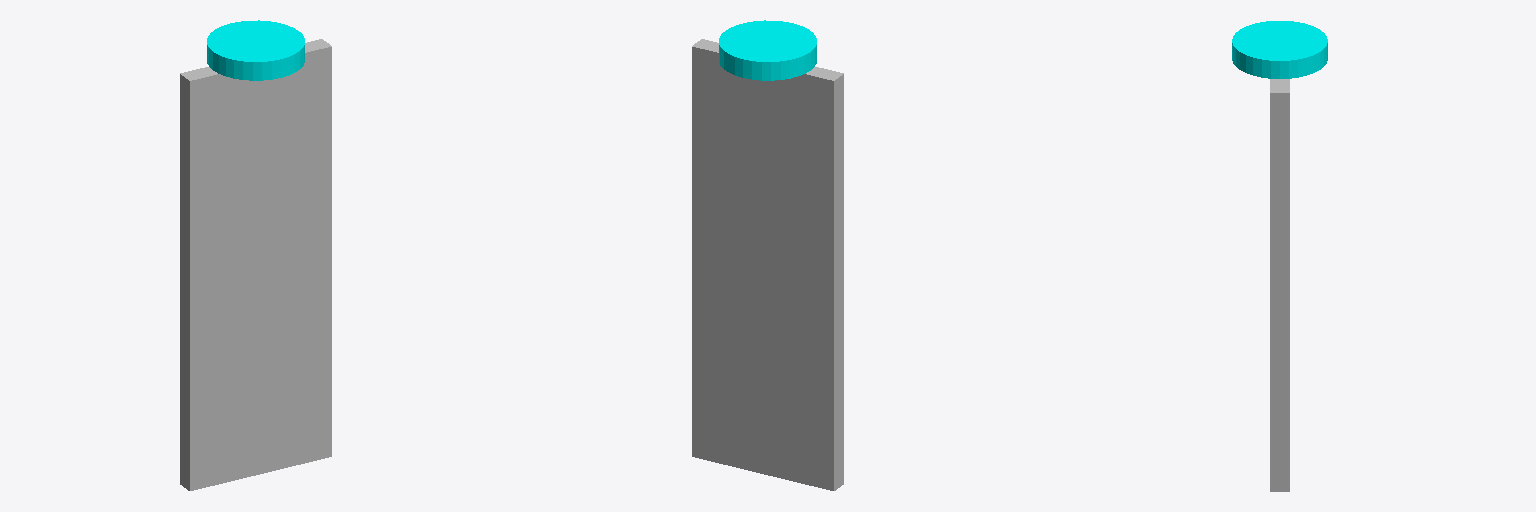
URDF robot description (spatula-base.urdf):
<?xml version="0.0" ?>
<robot name="spatula-base.urdf">
  <material name="DarkGrey">
    <color rgba="0.2 0.2 0.2 0.0"/>
  </material>
  <material name="LightGrey">
    <color rgba="0.8 0.8 0.8 0.0"/>
  </material>
  <material name="Blue">
    <color rgba="0.0 1.0 1.0 1.0"/>
  </material>

  <link name="baseLink">
    <contact>
      <lateral_friction value="1.0"/>
      <rolling_friction value="0.0001"/>
      <inertia_scaling value="3.0"/>
    </contact>
    <inertial>
      <origin rpy="0 0 0" xyz="0 0 0"/>
       <mass value=".1"/>
       <inertia ixx="1" ixy="0" ixz="0" iyy="1" iyz="0" izz="1"/>
    </inertial>
    <visual>
      <origin rpy="0 0 0" xyz="0 0 0"/>
      <geometry>
        <mesh filename="suction/base.obj" scale="0.001 0.001 0.001"/>
      </geometry>
      <material name="DarkGrey"/>
    </visual>
    <visual>
      <origin rpy="0 0 0" xyz="0 0 0.075"/>
      <geometry>
        <box size="0.04 0.005 0.11"/>
      </geometry>
      <material name="LightGrey"/>
    </visual>
    <collision>
      <origin rpy="0 0 0" xyz="0 0 0.075"/>
      <geometry>
        <box size="0.04 0.005 0.11"/>
      </geometry>
    </collision>
  </link>

  <link name="midLink">
    <contact>
      <lateral_friction value="1.0"/>
      <rolling_friction value="0.0001"/>
      <inertia_scaling value="3.0"/>
    </contact>
    <inertial>
      <origin rpy="0 0 0" xyz="0 0 0"/>
       <mass value=".1"/>
       <inertia ixx="1" ixy="0" ixz="0" iyy="1" iyz="0" izz="1"/>
    </inertial>
    <visual>
      <origin rpy="0 0 0" xyz="0 0 0.1075"/>
      <geometry>
        <cylinder radius="0.012" length="0.005"/>
      </geometry>
      <material name="Blue"/>
    </visual>
    <collision>
      <origin rpy="0 0 0" xyz="0 0 0.1075"/>
      <geometry>
        <cylinder radius="0.012" length="0.005"/>
      </geometry>
    </collision>
  </link>
  <joint name="baseLink-midLink" type="fixed">
    <origin rpy="0 0 0" xyz="0 0 0.025"/>
    <parent link="baseLink"/>
    <child link="midLink"/>
  </joint>


</robot>

--- Facts derived from the render (not from the file) ---
3 views of the same robot in one strip: view 1: azimuth 30°, elevation 25°; view 2: azimuth 150°, elevation 25°; view 3: azimuth 270°, elevation 25° (orthographic).
Model spatula-base.urdf with 2 links and 1 joints (1 fixed), rooted at baseLink, posed all joints at 0.
Visible links, largest first — view 1: baseLink, midLink; view 2: baseLink, midLink; view 3: baseLink, midLink.
Boxes of the visible links, x1,y1,x2,y2 form: baseLink: [180, 39, 331, 490]; midLink: [207, 20, 304, 80]; baseLink: [692, 39, 843, 490]; midLink: [719, 20, 816, 80]; baseLink: [1270, 79, 1289, 491]; midLink: [1232, 21, 1327, 78].
Bounding box of the posed robot: 0.04 × 0.024 × 0.115 m (x, y, z).
Meshes: 1 distinct files referenced, 0 mesh visuals loaded (none loaded); not drawn: 1 (reference not matched to a file when rendering).